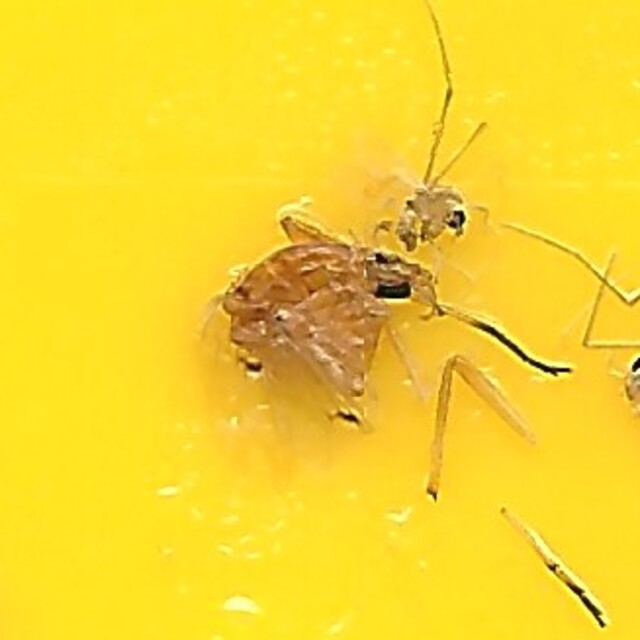Nematocera: (196, 204, 444, 436)
